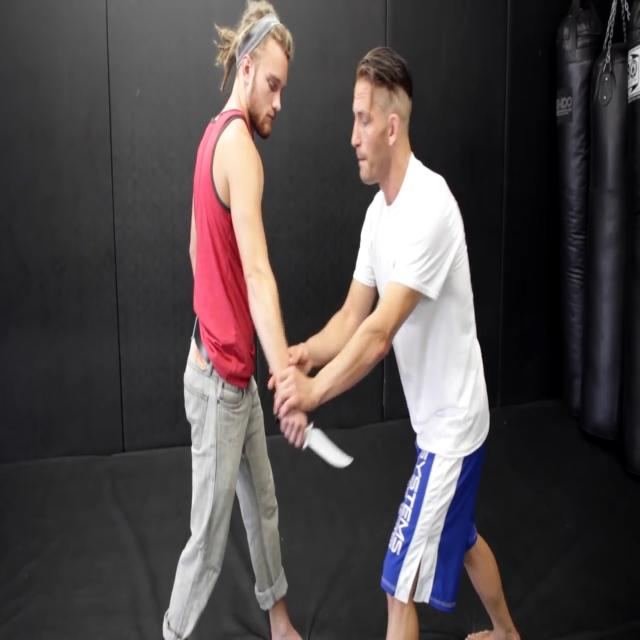knife: (305, 422, 360, 477)
